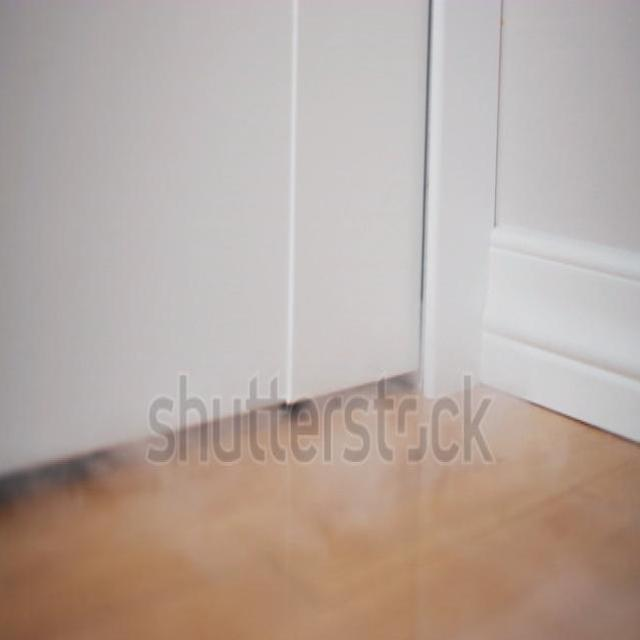fire: (0, 276, 565, 586)
